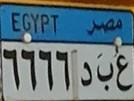6: (22, 41, 38, 97), (41, 45, 54, 98), (4, 41, 16, 95), (58, 44, 69, 91)
ب: (96, 61, 117, 92)
د: (75, 63, 91, 94)
ع: (113, 51, 132, 100)
